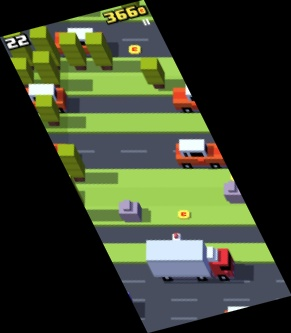car: (175, 138, 229, 169), (173, 83, 221, 113), (55, 27, 102, 54), (21, 83, 66, 111)
coin: (128, 43, 143, 56), (178, 210, 191, 221)
duck: (169, 234, 185, 253)
rock: (119, 199, 144, 224), (223, 180, 249, 204)
tree: (3, 23, 36, 67), (29, 24, 61, 69), (83, 33, 114, 71), (32, 51, 61, 90), (59, 33, 88, 71), (58, 145, 84, 182), (35, 97, 62, 128), (8, 57, 34, 88), (140, 59, 166, 89)
truck: (146, 240, 234, 283)
